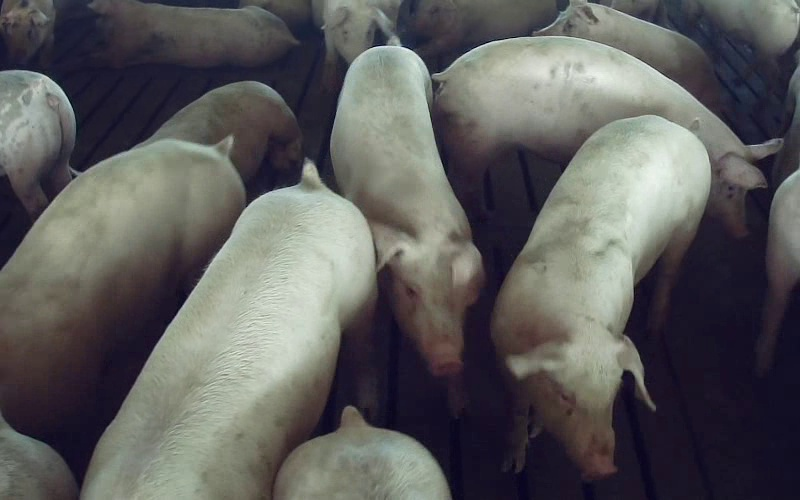pig: (82, 162, 376, 499), (492, 118, 710, 478), (0, 138, 244, 433), (330, 47, 482, 375), (534, 0, 719, 112), (89, 0, 297, 67)
